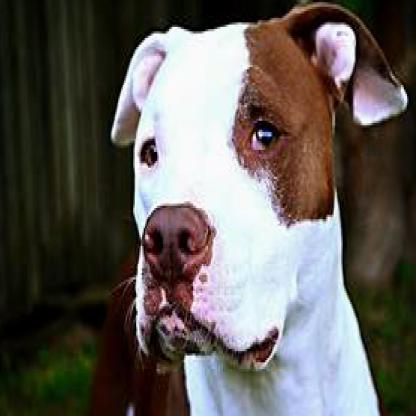dog: (87, 2, 408, 414)
